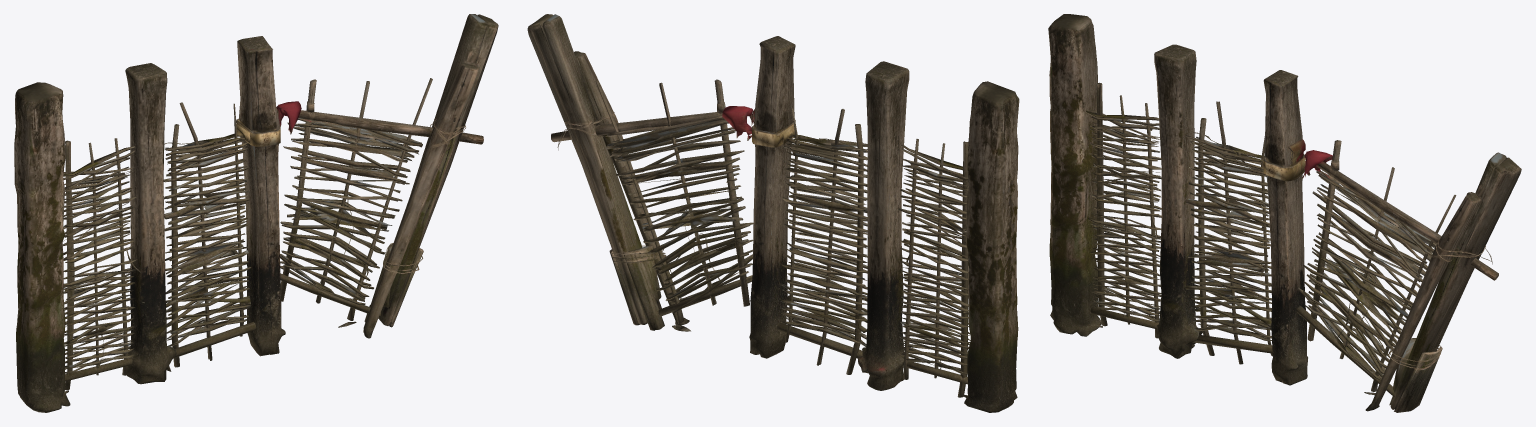
Rendered from vil-fences_optimized.glb.
3 views of the same model, side by side, from view 1: azimuth 30°, elevation 25°; view 2: azimuth 150°, elevation 25°; view 3: azimuth 330°, elevation 25° (orthographic). The views are drawn at different scales.
Parts seen in each view (by area): view 1: Mesh_0; view 2: Mesh_0; view 3: Mesh_0.
Part boxes in pixels (x1,y1,x2,y2): Mesh_0: (14,14,498,412); Mesh_0: (527,14,1019,412); Mesh_0: (1048,14,1521,412).
Size of the model in its own units: 0.9531 by 0.6074 by 0.0967.
1 material, 1 textured.
